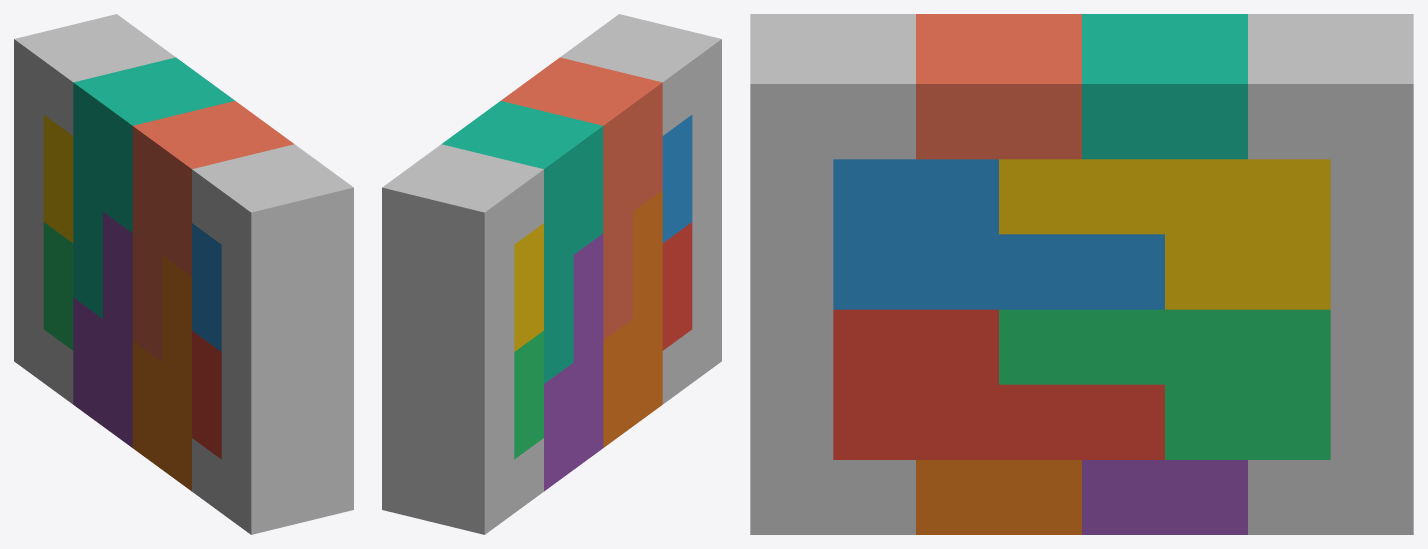
File: tiling.obj
3 renders of one model, left to right at view 1: azimuth 30°, elevation 25°; view 2: azimuth 150°, elevation 25°; view 3: azimuth 270°, elevation 25°, orthographic. The views are drawn at different scales.
Parts seen in each view (by area): view 1: copy_10, copy_11, copy_8, copy_7, copy_12, copy_5, copy_6, copy_9, copy_3, copy_4, copy_1, copy_2; view 2: copy_12, copy_9, copy_8, copy_7, copy_10, copy_5, copy_6, copy_11, copy_1, copy_2, copy_3, copy_4; view 3: copy_12, copy_1, copy_2, copy_3, copy_4, copy_11, copy_10, copy_7, copy_8, copy_9, copy_5, copy_6.
Boxes of the visible parts, x1,y1,x2,y2 form: copy_10: (192, 144, 353, 427); copy_11: (192, 295, 353, 534); copy_8: (132, 101, 294, 361); copy_7: (73, 57, 234, 318); copy_12: (14, 14, 175, 167); copy_5: (73, 212, 132, 447); copy_6: (132, 255, 191, 491); copy_9: (14, 146, 73, 404); copy_3: (43, 222, 73, 350); copy_4: (43, 115, 73, 242); copy_1: (192, 330, 221, 459); copy_2: (192, 223, 221, 351); copy_12: (382, 144, 543, 414); copy_9: (382, 299, 543, 534); copy_8: (501, 57, 662, 340); copy_7: (441, 101, 603, 383); copy_10: (560, 14, 721, 275); copy_5: (544, 233, 603, 491); copy_6: (603, 190, 662, 447); copy_11: (662, 254, 721, 404); copy_1: (662, 222, 692, 350); copy_2: (662, 115, 692, 242); copy_3: (514, 330, 543, 459); copy_4: (514, 223, 543, 351); copy_12: (1248, 14, 1413, 384); copy_1: (833, 309, 1164, 459); copy_2: (833, 159, 1164, 309); copy_3: (999, 309, 1330, 459); copy_4: (999, 159, 1330, 309); copy_11: (750, 234, 915, 534); copy_10: (750, 14, 915, 234); copy_7: (1082, 14, 1247, 159); copy_8: (916, 14, 1081, 159); copy_9: (1248, 384, 1413, 534); copy_5: (1082, 460, 1247, 534); copy_6: (916, 460, 1081, 534).
Size of the model in its own units: 2 by 6 by 8.
